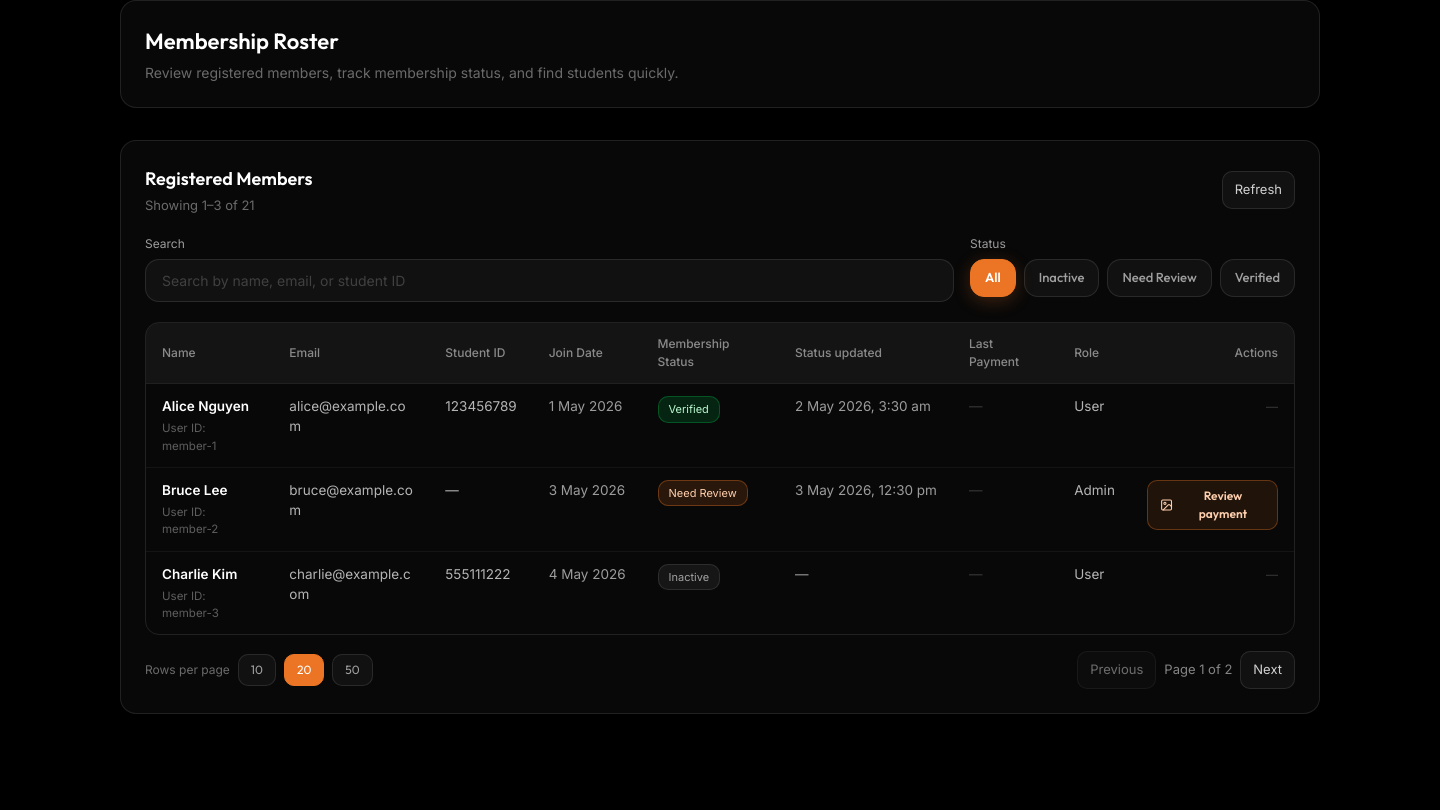
Test case: Admin membership roster › disables previous and next correctly at the first and last pages
(page scrolled)
Expected: the text "Alice Nguyen" is shown, [162,396,257,416]
Expected: the button "Previous" is disabled, [1077,651,1156,689]
Click the button "Next" at [1268, 670], box [1240,651,1295,689]
(page scrolled)
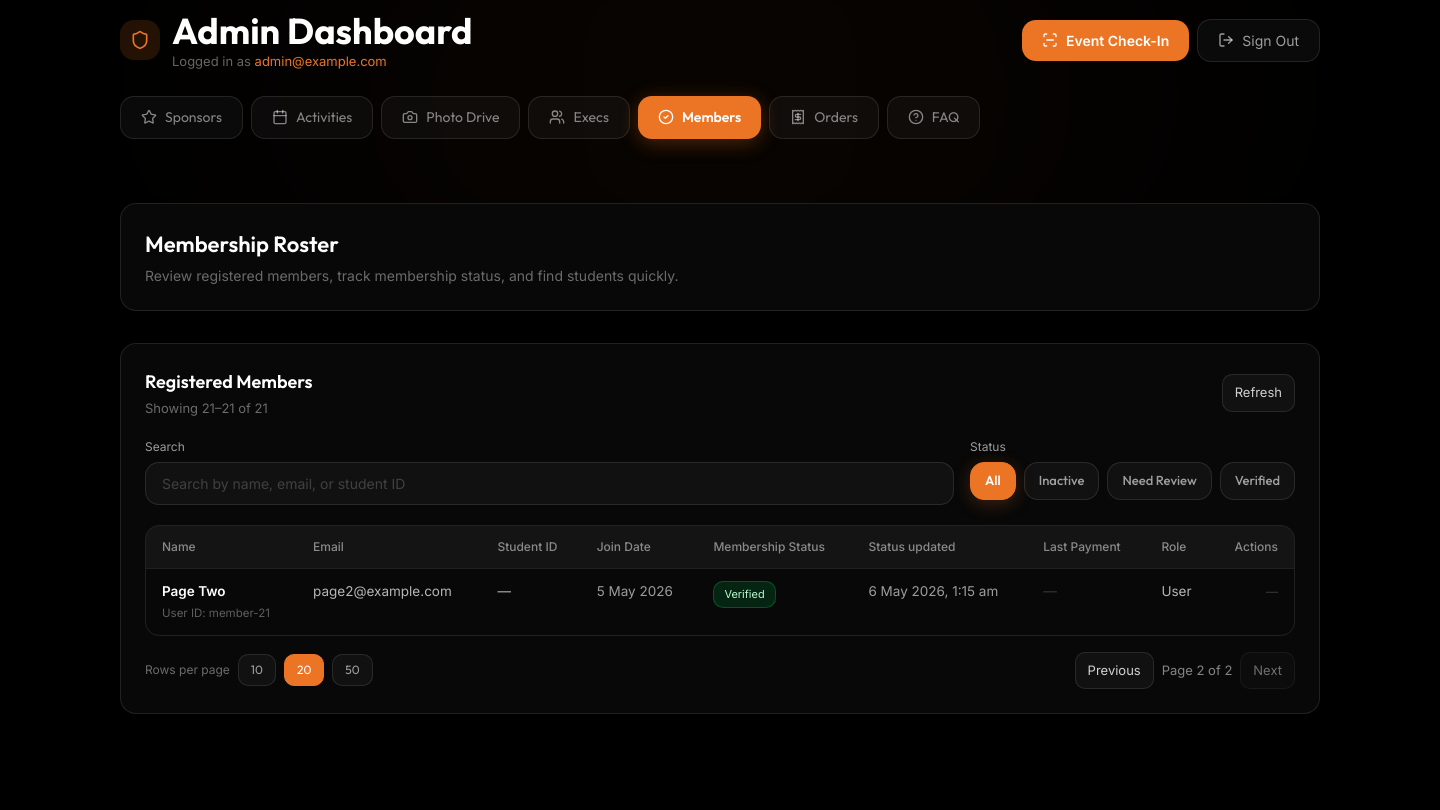
Result: the text "Page Two" is shown at [162,583,226,599]
Result: the button "Previous" is enabled at [1075,652,1154,689]
Result: the button "Next" is disabled at [1240,652,1295,689]
